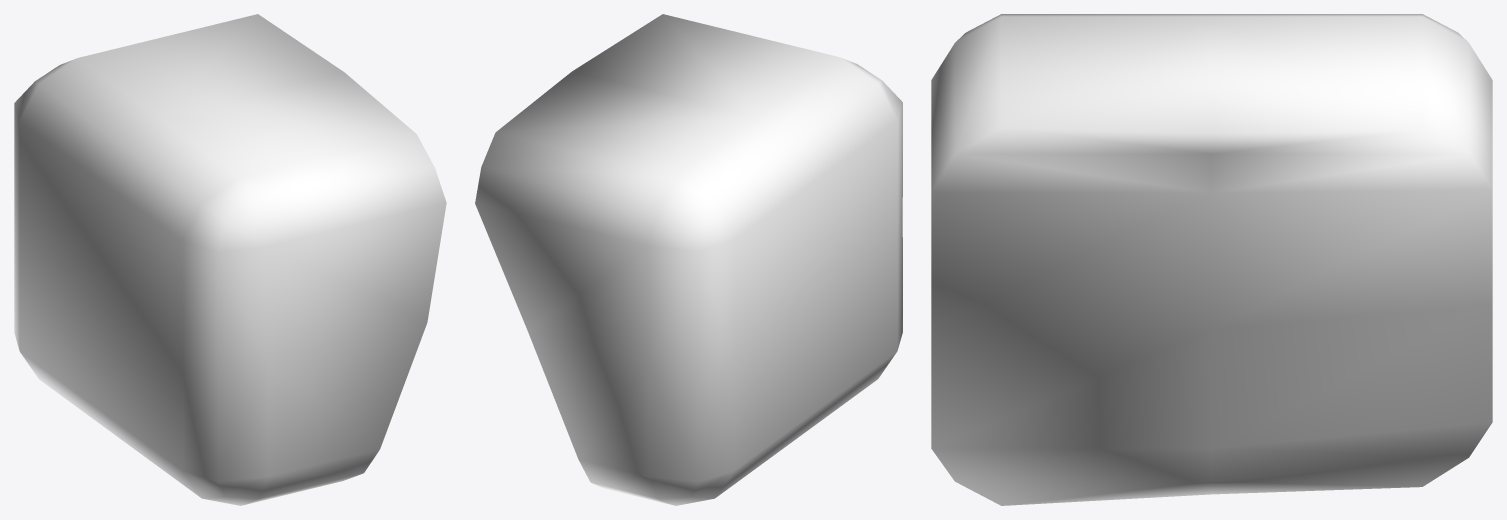
Rendered from WhiteBrickBreak1.obj.
3 views of the same model, side by side, from view 1: azimuth 30°, elevation 25°; view 2: azimuth 150°, elevation 25°; view 3: azimuth 270°, elevation 25° (orthographic). The views are drawn at different scales.
Parts seen in each view (by area): view 1: OriginalBrick.010_Cube.015; view 2: OriginalBrick.010_Cube.015; view 3: OriginalBrick.010_Cube.015.
Boxes of the visible parts, box(x1,y1,x2,y2) form: OriginalBrick.010_Cube.015: box(14, 14, 446, 505); OriginalBrick.010_Cube.015: box(475, 14, 902, 505); OriginalBrick.010_Cube.015: box(931, 14, 1492, 505).
Size of the model in its own units: 0.2791 by 0.36 by 0.4316.
2 materials, 2 textured.
